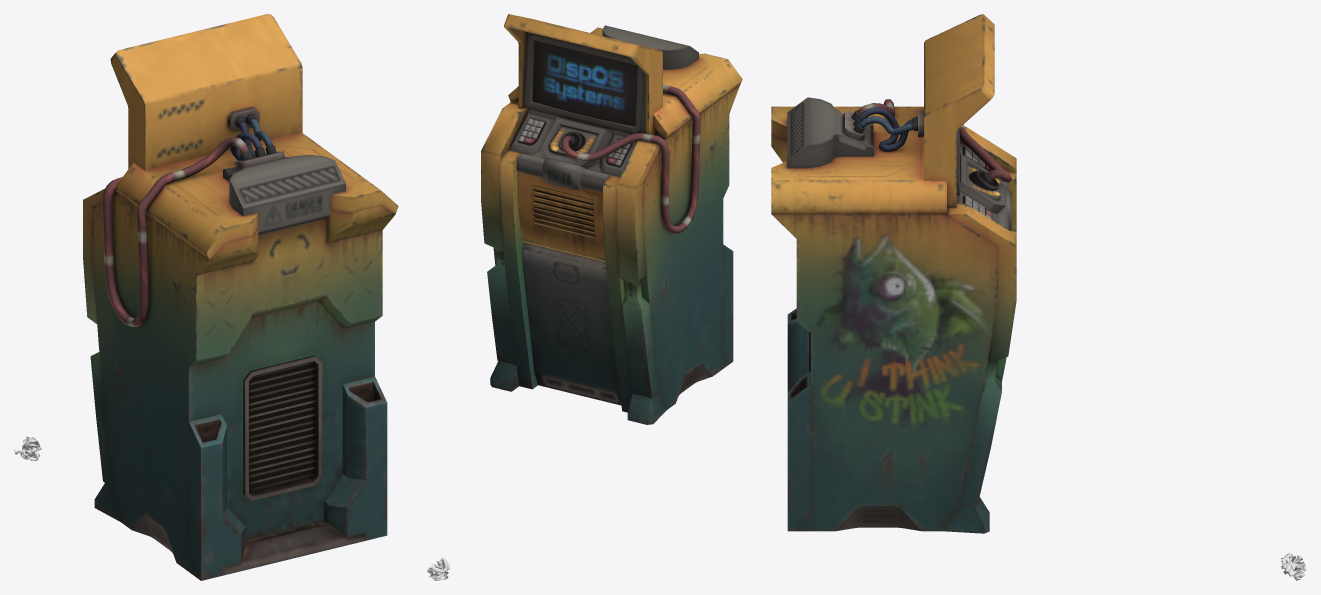
Rendered from sci-fi-trash-bin--dispos-systems-53803d.glb.
3 views of the same model, side by side, from view 1: azimuth 30°, elevation 25°; view 2: azimuth 150°, elevation 25°; view 3: azimuth 270°, elevation 25° (orthographic). The views are drawn at different scales.
Parts seen in each view (by area): view 1: PropMesh; view 2: PropMesh; view 3: PropMesh.
Part boxes in pixels (box(x1,y1,x2,y2)): PropMesh: box(14, 14, 398, 580); PropMesh: box(427, 14, 742, 580); PropMesh: box(771, 14, 1306, 580).
Size of the model in its own units: 0.4675 by 1.2 by 1.1.
2 materials, 1 textured.
